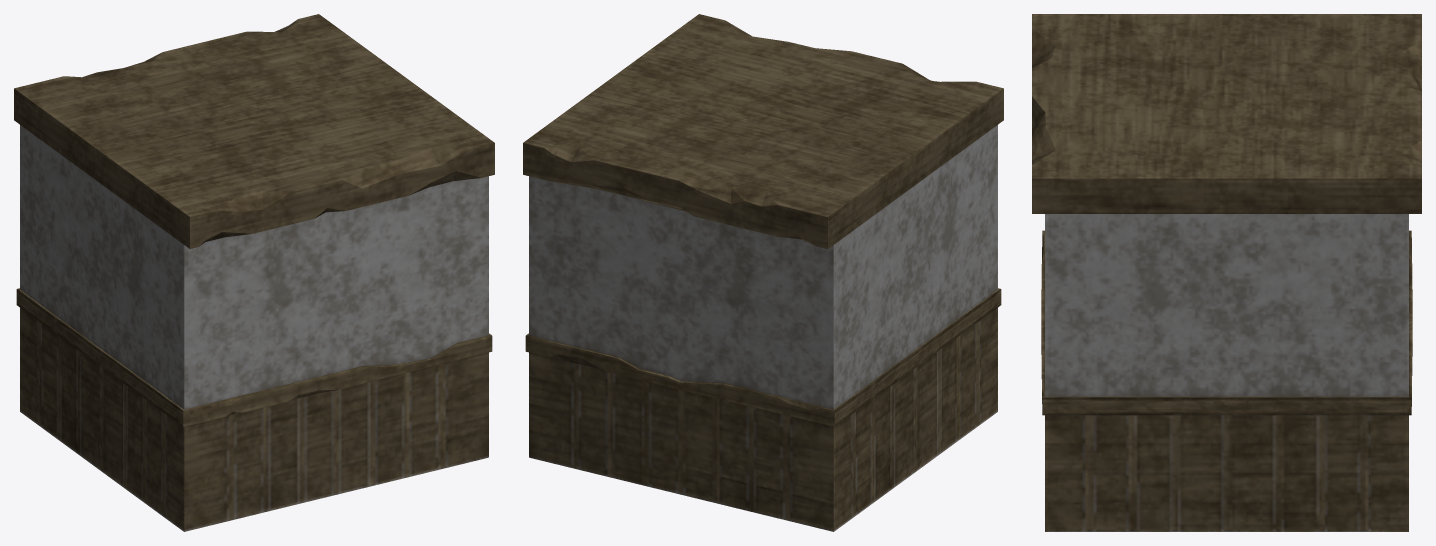
File: sb_obj_outdoor029_house02_wall02_ruins.fbx
3 views of the same model, side by side, from view 1: azimuth 30°, elevation 25°; view 2: azimuth 150°, elevation 25°; view 3: azimuth 270°, elevation 25° (orthographic). The views are drawn at different scales.
Parts seen in each view (by area): view 1: sb_obj_outdoor029_house02_wall02_ruins; view 2: sb_obj_outdoor029_house02_wall02_ruins; view 3: sb_obj_outdoor029_house02_wall02_ruins.
Part boxes in pixels (x1,y1,x2,y2): sb_obj_outdoor029_house02_wall02_ruins: (14,14,494,531); sb_obj_outdoor029_house02_wall02_ruins: (523,14,1003,531); sb_obj_outdoor029_house02_wall02_ruins: (1032,14,1421,531).
Bounding box in the file's own units: 3.04 × 3 × 3.
